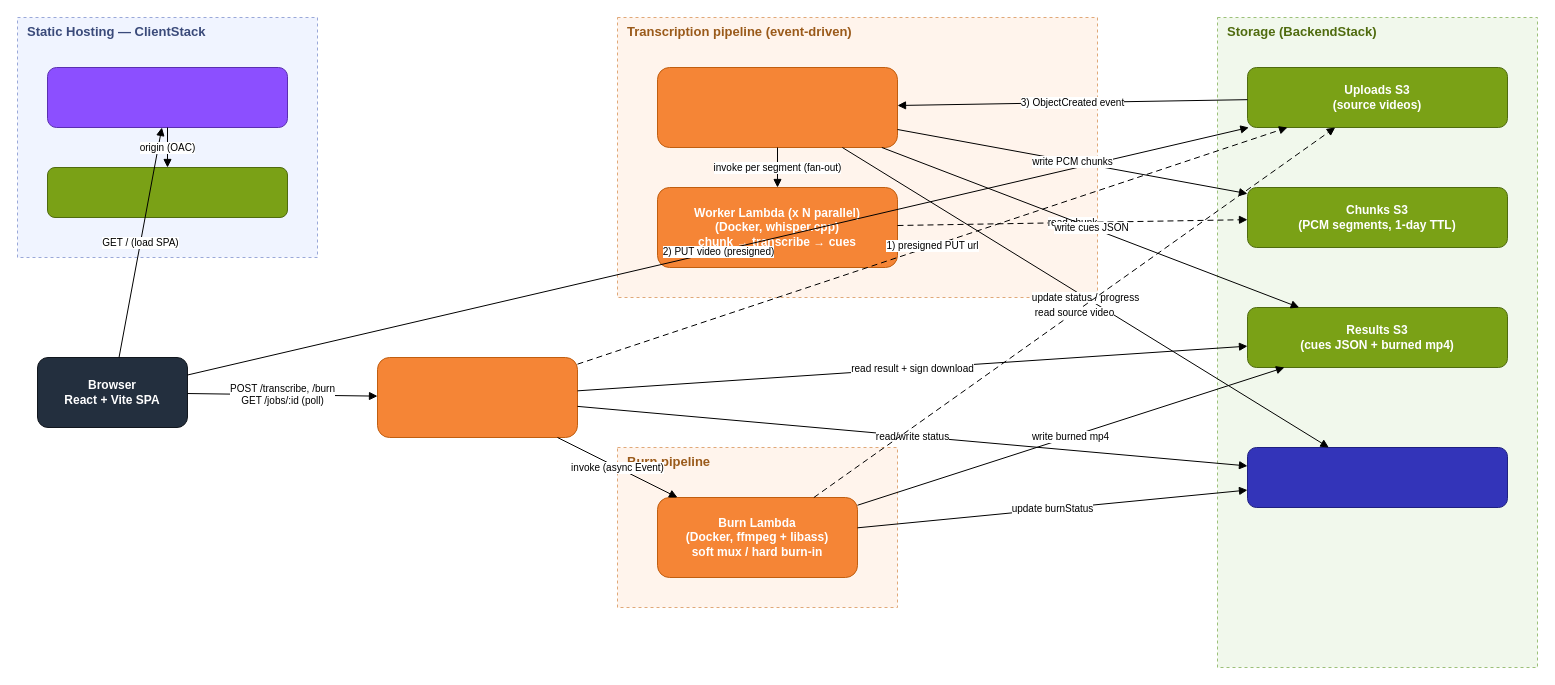
Image size: 1555x685. Some labels were removed from this diagram. Here are the shapes that lost their labels. From the top down, the centre of each, then its label:
At point (167, 97): "CloudFront Distribution + ACM cert".
At point (777, 107): "Orchestrator Lambda (Docker, ffmpeg) decode → segment → fan-out → merge".
At point (167, 192): "Client S3 bucket (private, OAC)".
At point (477, 397): "API Lambda (Function URL, Node 20) presign · status · trigger burn".
At point (1377, 477): "Jobs table DynamoDB (status, TTL)".
